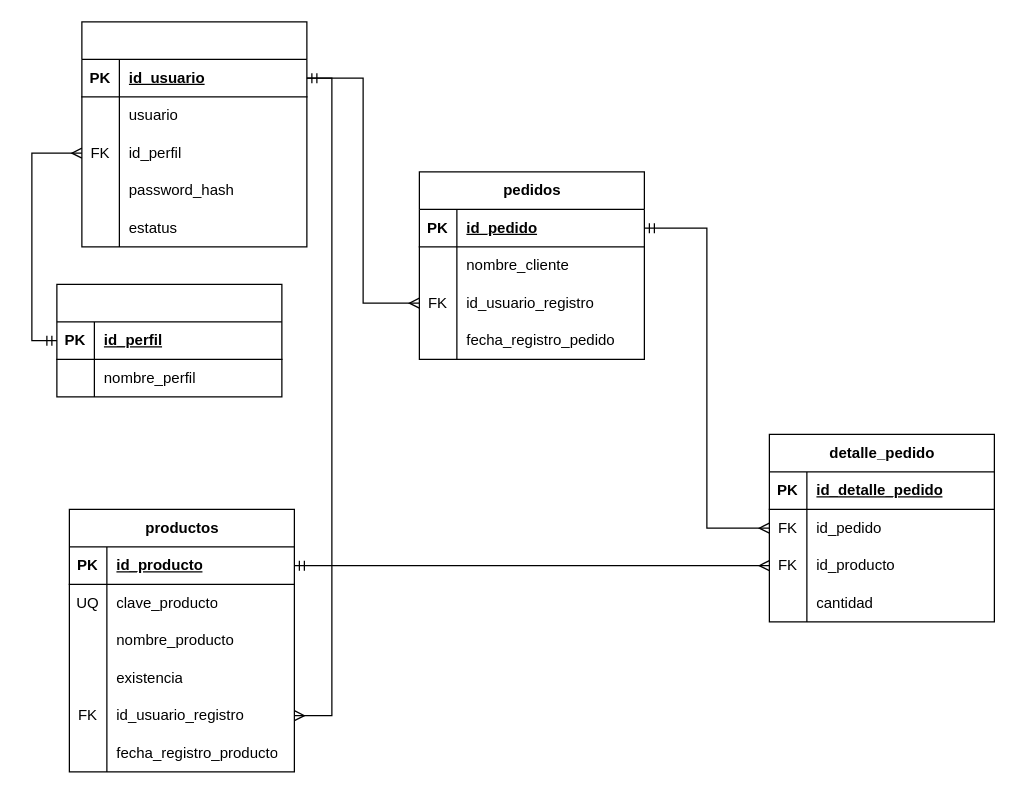
Image size: 1016x794. Some labels were removed from this diagram. Here are the shapes that lost their labels. From the top down, the box of each, then its label:
(81, 21, 307, 247): usuarios
(56, 283, 282, 397): perfiles
